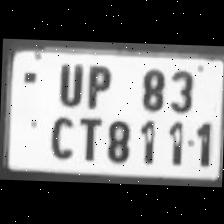1: (185, 116, 215, 166), (133, 112, 161, 164), (162, 114, 188, 164)
3: (164, 64, 196, 114)
8: (134, 62, 168, 113), (102, 113, 132, 163)
C: (43, 108, 76, 158)
P: (80, 60, 114, 109)
T: (73, 111, 103, 161)
U: (51, 58, 84, 105)
